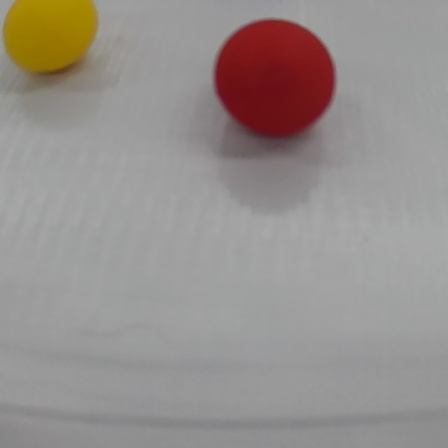red: (212, 18, 337, 138)
yellow: (2, 0, 101, 76)
